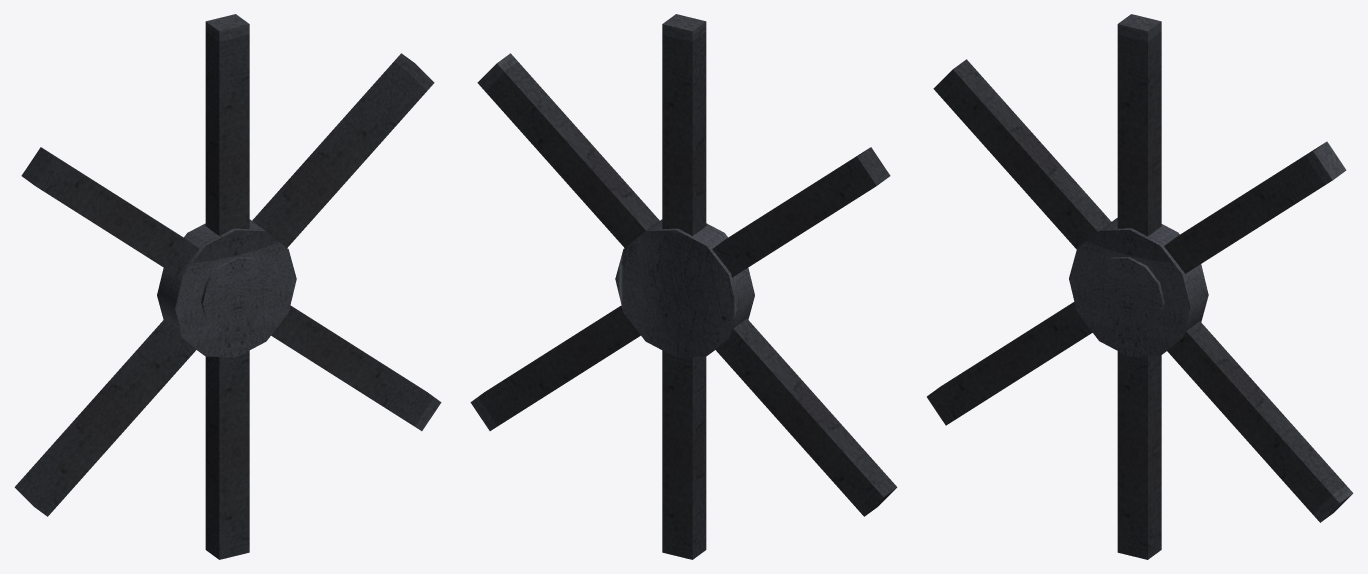
File: 移动靶02六.FBX
3 renders of one model, left to right at view 1: azimuth 30°, elevation 25°; view 2: azimuth 150°, elevation 25°; view 3: azimuth 330°, elevation 25°, orthographic.
Visible parts, largest first — view 1: dd02; view 2: dd02; view 3: dd02.
Boxes of the visible parts, bbox=[...] form: dd02: bbox=[14, 14, 441, 559]; dd02: bbox=[470, 14, 897, 559]; dd02: bbox=[927, 14, 1353, 559].
Bounding box in the file's own units: 13.27 × 1.12 × 16.21.
